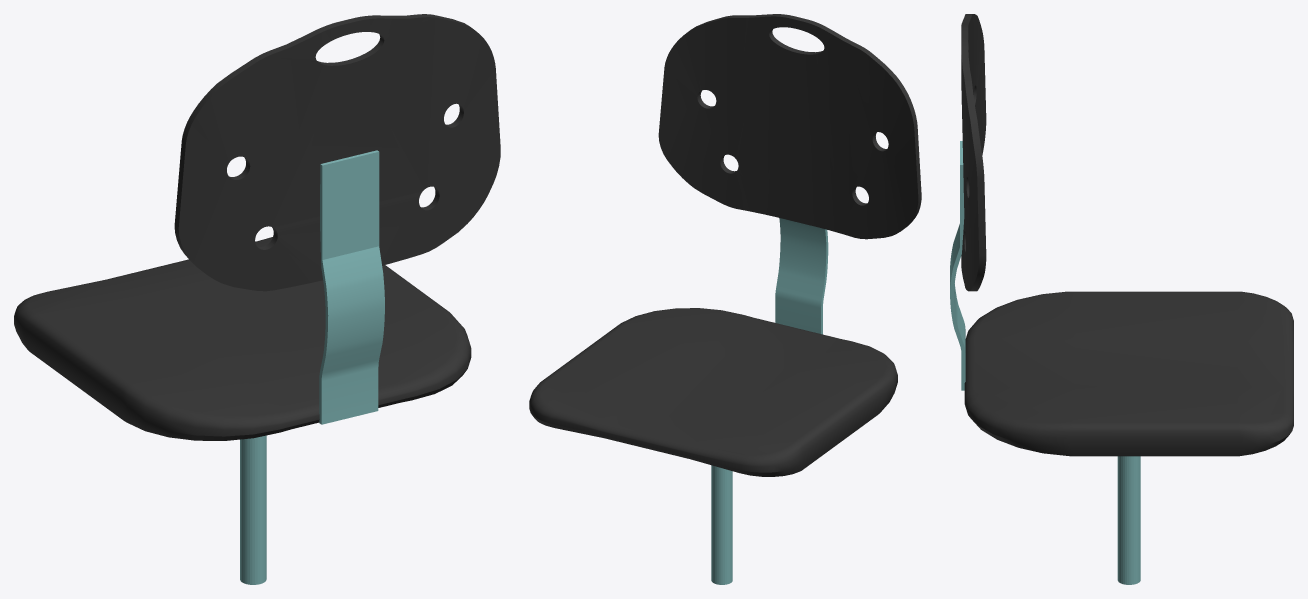
File: S_ChairTop.fbx
3 views of the same model, side by side, from view 1: azimuth 30°, elevation 25°; view 2: azimuth 150°, elevation 25°; view 3: azimuth 270°, elevation 25° (orthographic). The views are drawn at different scales.
Parts seen in each view (by area): view 1: Cube.041, Cube.029, Cube.042, Cylinder.026; view 2: Cube.041, Cube.029, Cube.042, Cylinder.026; view 3: Cube.029, Cube.041, Cylinder.026, Cube.042.
Part boxes in pixels (<box>): Cube.041: <box>174,14,500,291</box>; Cube.029: <box>14,237,471,440</box>; Cube.042: <box>319,150,384,424</box>; Cylinder.026: <box>240,435,266,584</box>; Cube.041: <box>658,14,921,239</box>; Cube.029: <box>529,308,897,476</box>; Cube.042: <box>775,218,828,334</box>; Cylinder.026: <box>711,465,732,584</box>; Cube.029: <box>964,291,1293,456</box>; Cube.041: <box>961,14,986,291</box>; Cylinder.026: <box>1117,456,1140,584</box>; Cube.042: <box>950,141,965,390</box>.
Size of the model in its own units: 61.12 by 111 by 63.85.
